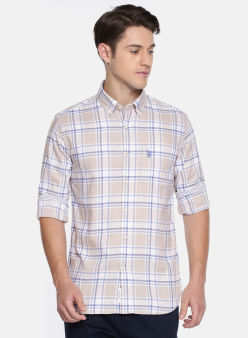NOTSAFE: (59, 3, 188, 323)
